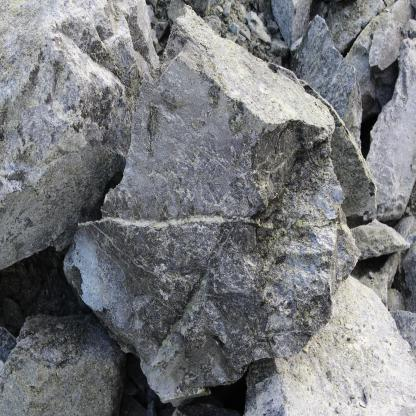stone: (62, 0, 356, 397), (0, 0, 156, 268), (246, 275, 416, 416), (0, 313, 123, 416), (364, 38, 416, 222), (293, 15, 362, 153), (332, 112, 377, 219), (368, 0, 412, 73), (349, 219, 411, 259), (270, 0, 311, 48), (402, 239, 416, 314), (394, 310, 416, 356), (246, 10, 271, 44)
